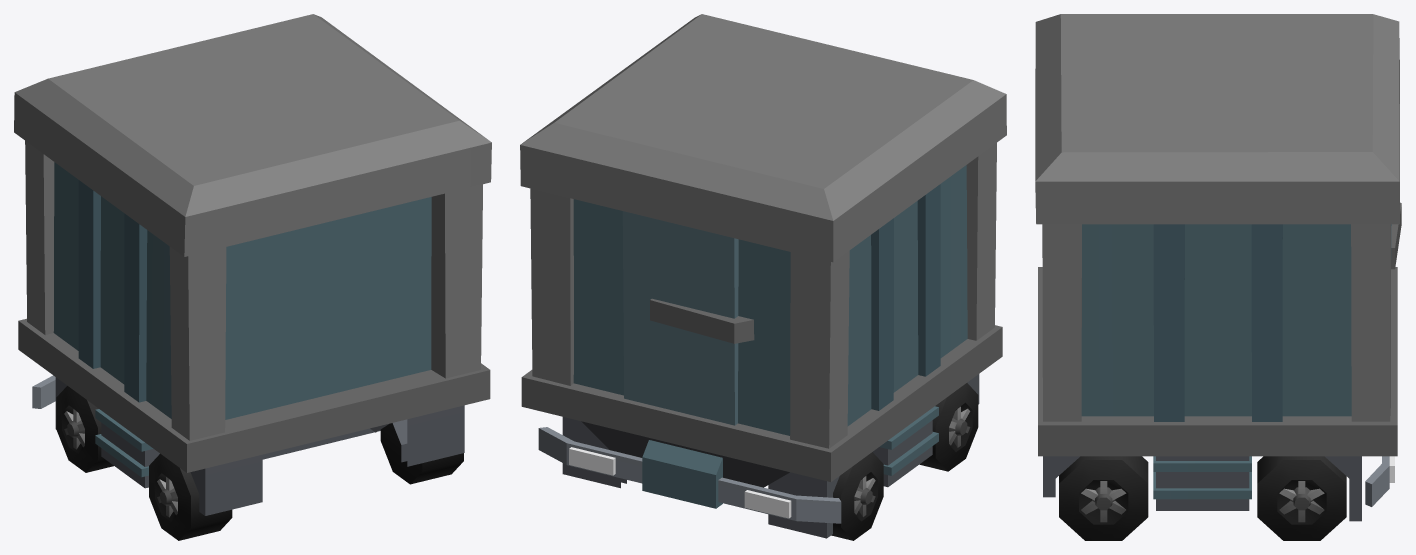
The model's file is cargo_01_A_2.fbx.
3 views of the same model, side by side, from view 1: azimuth 30°, elevation 25°; view 2: azimuth 150°, elevation 25°; view 3: azimuth 270°, elevation 25° (orthographic). The views are drawn at different scales.
Parts seen in each view (by area): view 1: cargo_01_A_2; view 2: cargo_01_A_2; view 3: cargo_01_A_2.
Part boxes in pixels (x1=…): cargo_01_A_2: x1=14, y1=14, x2=491, y2=540; cargo_01_A_2: x1=520, y1=14, x2=1006, y2=540; cargo_01_A_2: x1=1035, y1=14, x2=1401, y2=540.
Size of the model in its own units: 14.11 by 15.9 by 13.64.
